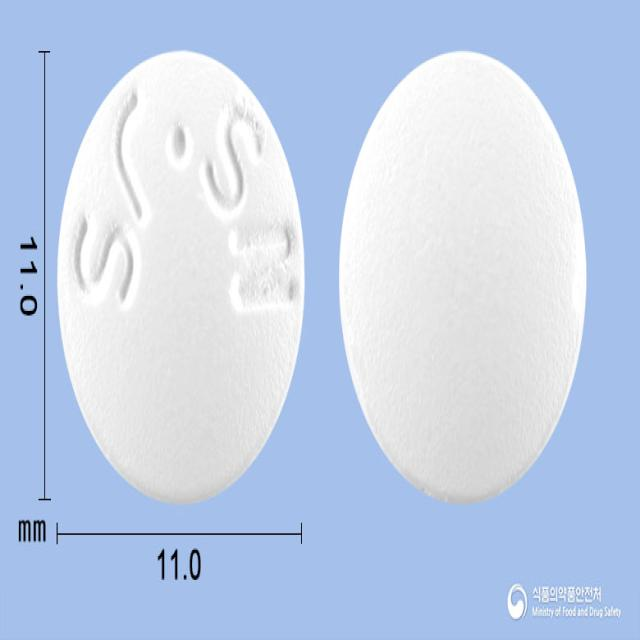Aris: (338, 48, 586, 506), (57, 48, 305, 503)
